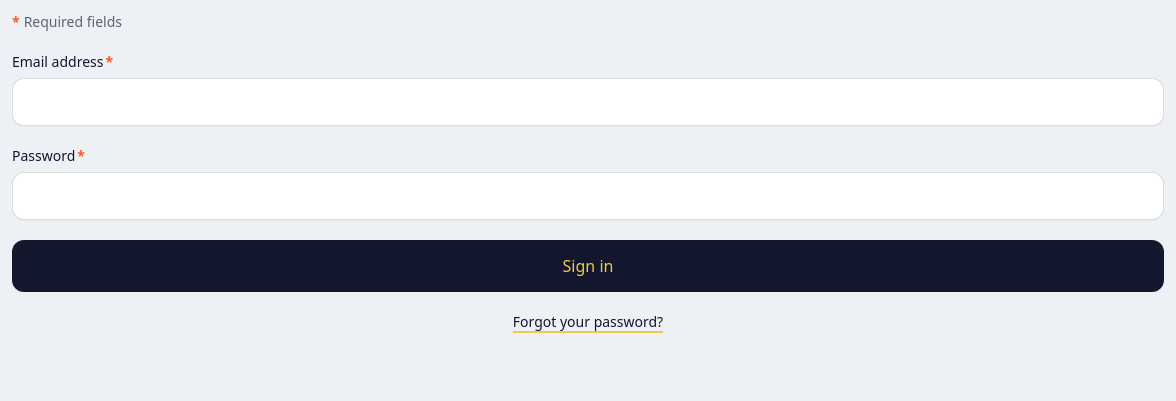
sign in › requires email and password before contacting the server
The image size is (1176, 401).
What coordinates should you click on to do the following:
click the button "Sign in"
I would click on:
 (588, 266)
Its box is 12,240 -> 1164,292.
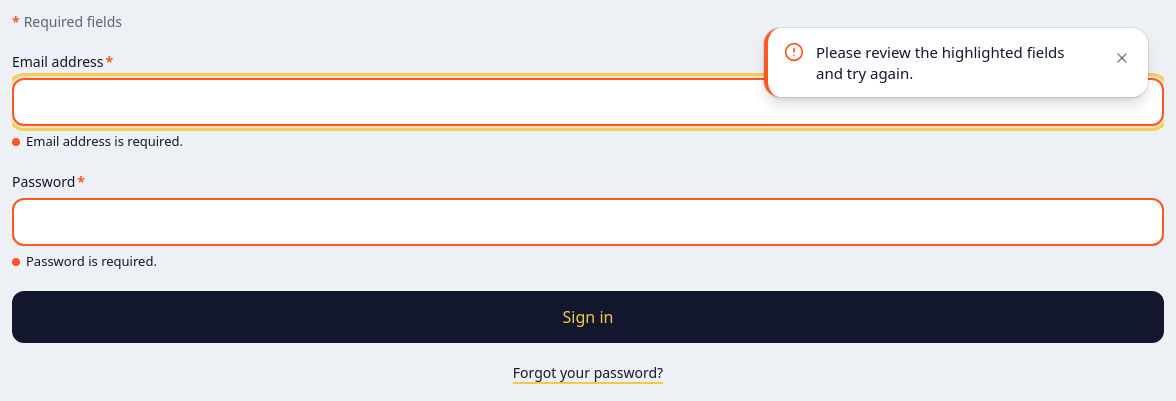
Result: the text "Email address is required." is shown at 12,132 -> 183,150
Result: the text "Password is required." is shown at 12,252 -> 157,270
